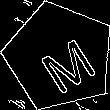M_NW: (26, 22, 93, 90)
